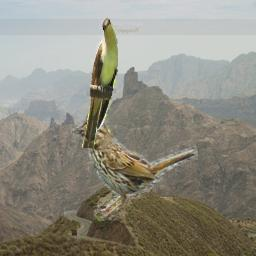Cuckoo: (82, 18, 118, 148)
Sparrow: (68, 113, 198, 221)
